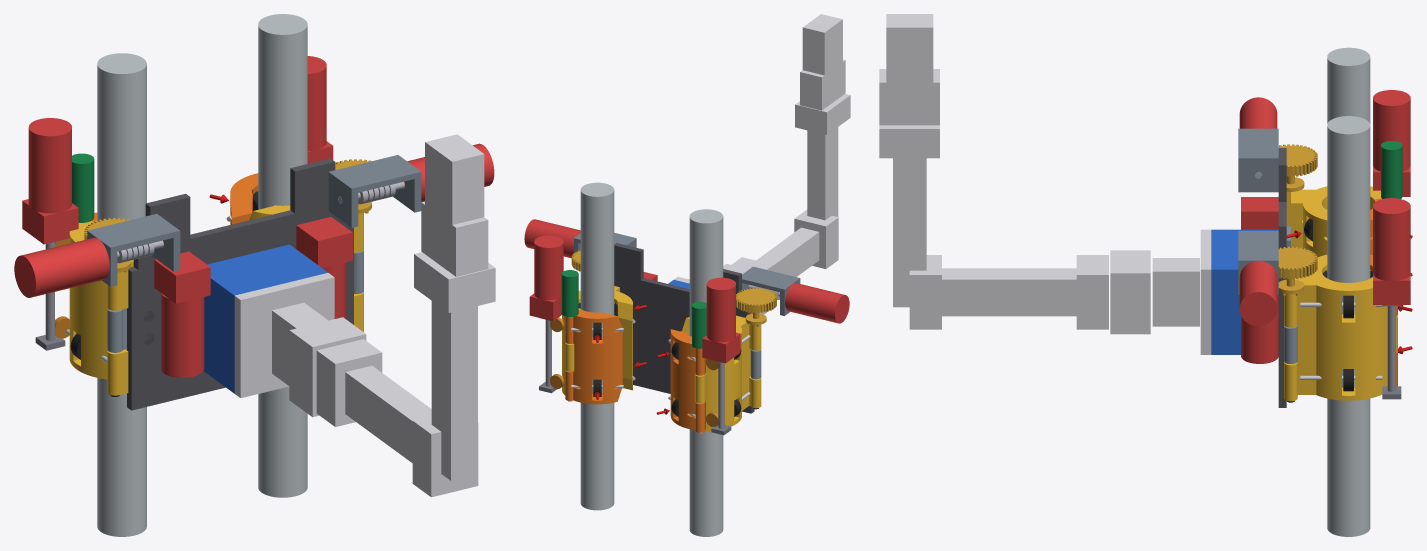
Rendered from assembly-rest.glb.
The picture shows the model from 3 angles, left to right: view 1: azimuth 30°, elevation 25°; view 2: azimuth 150°, elevation 25°; view 3: azimuth 270°, elevation 25°; orthographic projection. The views are drawn at different scales.
Visible parts, largest first — view 1: arm_envelope, track_pipe_B, track_pipe_C, base_plate, drive_motors, battery, hand_B_drive_motor, hinge_B_worm_motor, hinge_C_worm_bracket, hand_B_sleeve, hinge_B_worm_bracket, hand_C_drive_motor (+8 smaller); view 2: arm_envelope, track_pipe_C, track_pipe_B, base_plate, hand_C_jaw, hand_B_sleeve, hand_B_jaw, hand_B_drive_motor, hinge_B_worm_motor, hand_C_drive_motor, hand_C_sleeve, hinge_B_worm_bracket (+9 smaller); view 3: arm_envelope, track_pipe_C, hand_C_sleeve, battery, hand_C_drive_motor, track_pipe_B, drive_motors, hinge_B_worm_bracket, hand_B_drive_motor, hinge_C_worm_motor, hand_B_sleeve, base_plate (+8 smaller).
Boxes of the visible parts, left/top/right/bottom form: arm_envelope: left=234, top=134, right=495, bottom=497; track_pipe_B: left=97, top=53, right=146, bottom=536; track_pipe_C: left=258, top=14, right=307, bottom=497; base_plate: left=127, top=158, right=353, bottom=410; drive_motors: left=154, top=217, right=352, bottom=377; battery: left=203, top=244, right=327, bottom=393; hand_B_drive_motor: left=28, top=118, right=71, bottom=213; hinge_B_worm_motor: left=14, top=237, right=109, bottom=297; hinge_C_worm_bracket: left=328, top=155, right=421, bottom=227; hand_B_sleeve: left=69, top=221, right=107, bottom=379; hinge_B_worm_bracket: left=87, top=213, right=180, bottom=286; hand_C_drive_motor: left=307, top=56, right=326, bottom=151; arm_envelope: left=674, top=14, right=850, bottom=314; track_pipe_C: left=580, top=182, right=614, bottom=510; track_pipe_B: left=689, top=209, right=723, bottom=536; base_plate: left=614, top=243, right=754, bottom=413; hand_C_jaw: left=565, top=309, right=622, bottom=404; hand_B_sleeve: left=681, top=317, right=749, bottom=430; hand_B_jaw: left=670, top=329, right=704, bottom=432; hand_B_drive_motor: left=706, top=277, right=735, bottom=342; hinge_B_worm_motor: left=785, top=282, right=849, bottom=323; hand_C_drive_motor: left=534, top=235, right=563, bottom=300; hand_C_sleeve: left=562, top=287, right=632, bottom=395; hinge_B_worm_bracket: left=742, top=266, right=800, bottom=315; arm_envelope: left=879, top=14, right=1211, bottom=354; track_pipe_C: left=1327, top=116, right=1370, bottom=536; hand_C_sleeve: left=1295, top=254, right=1397, bottom=400; battery: left=1211, top=229, right=1278, bottom=354; hand_C_drive_motor: left=1373, top=198, right=1410, bottom=281; track_pipe_B: left=1327, top=47, right=1370, bottom=123; drive_motors: left=1241, top=197, right=1278, bottom=363; hinge_B_worm_bracket: left=1238, top=128, right=1278, bottom=192; hand_B_drive_motor: left=1373, top=90, right=1410, bottom=171; hinge_C_worm_motor: left=1239, top=260, right=1277, bottom=326; hand_B_sleeve: left=1295, top=186, right=1381, bottom=256; base_plate: left=1278, top=148, right=1286, bottom=407.
Size of the model in its own units: 342 by 388 by 396.
